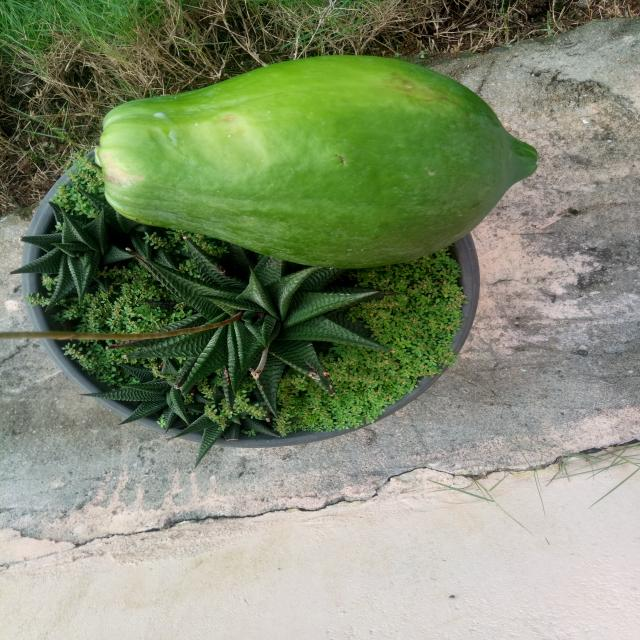Pepaya unrippen: (92, 47, 544, 267)
